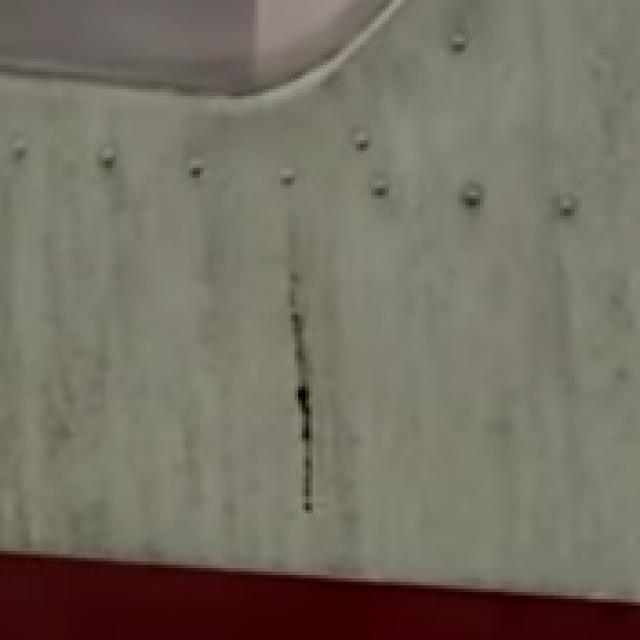crack: (280, 274, 357, 510)
